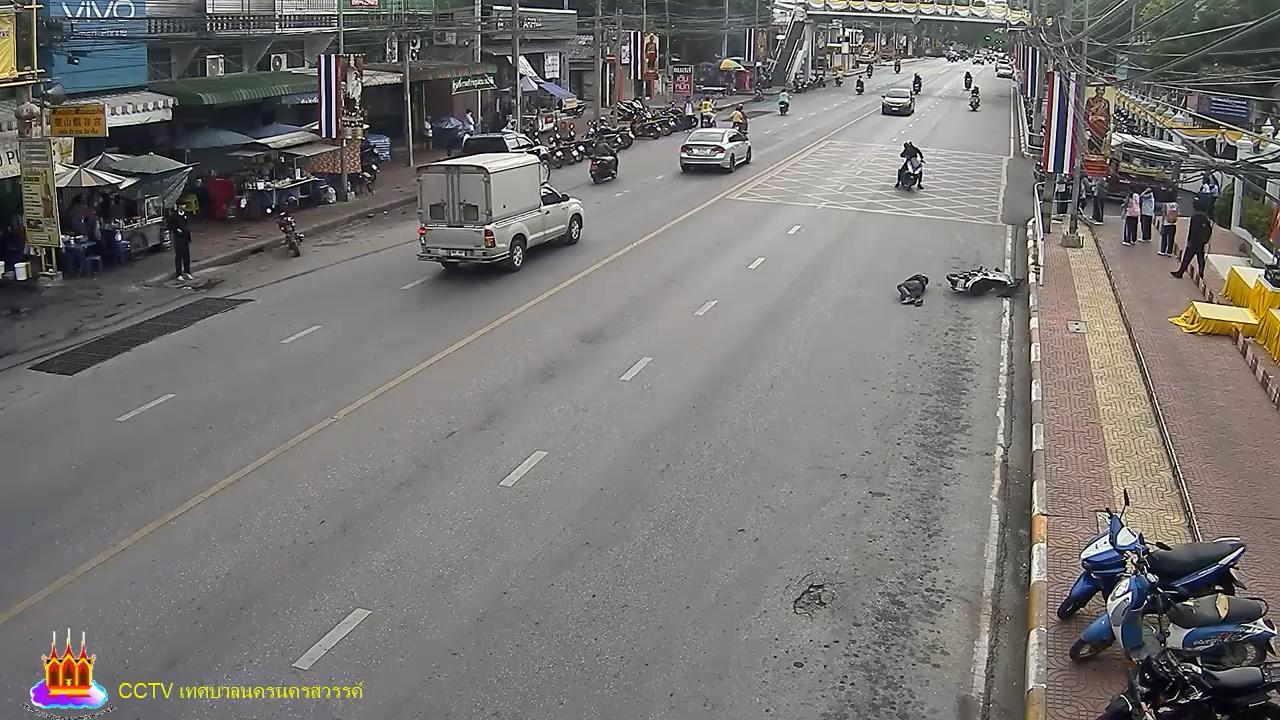accident: (895, 267, 932, 306)
